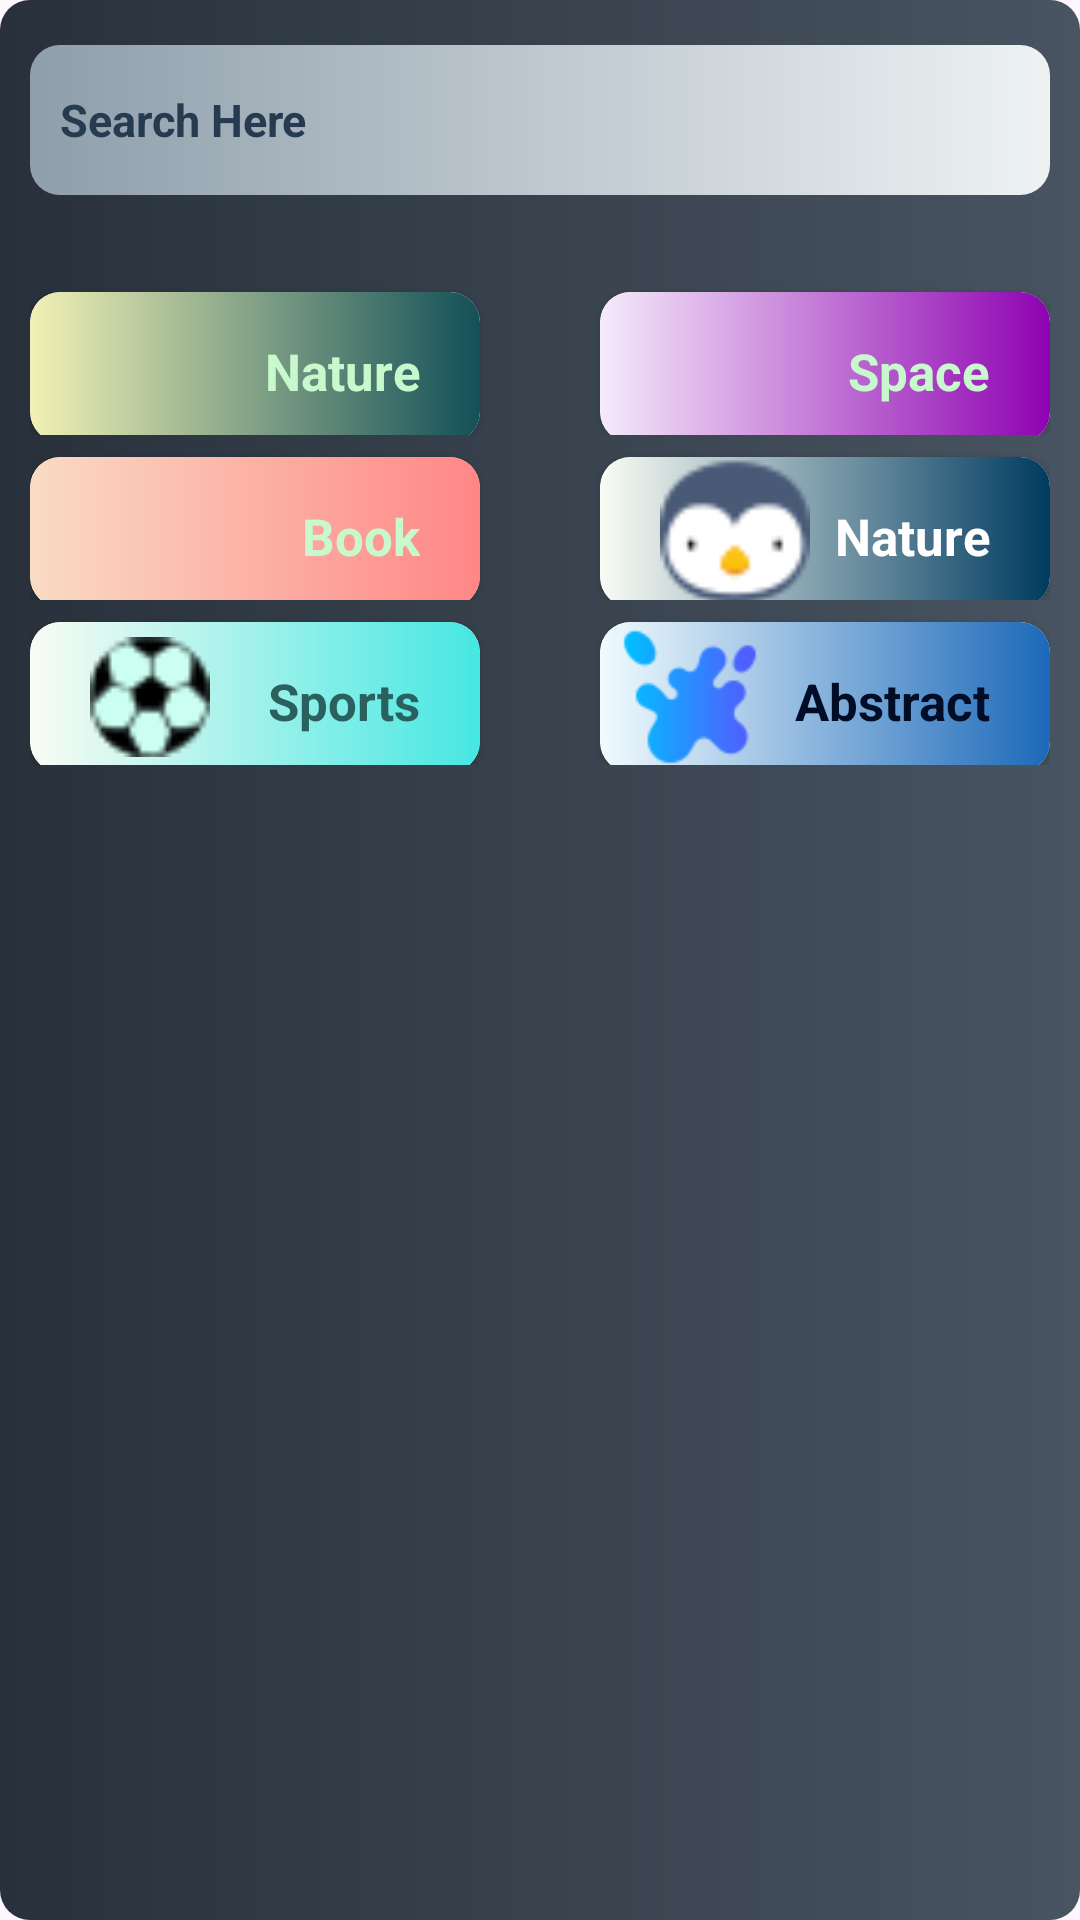

Point at icon controls on the screen. Image size 1080×1920, points as [x,y].
animal: [735,528]
